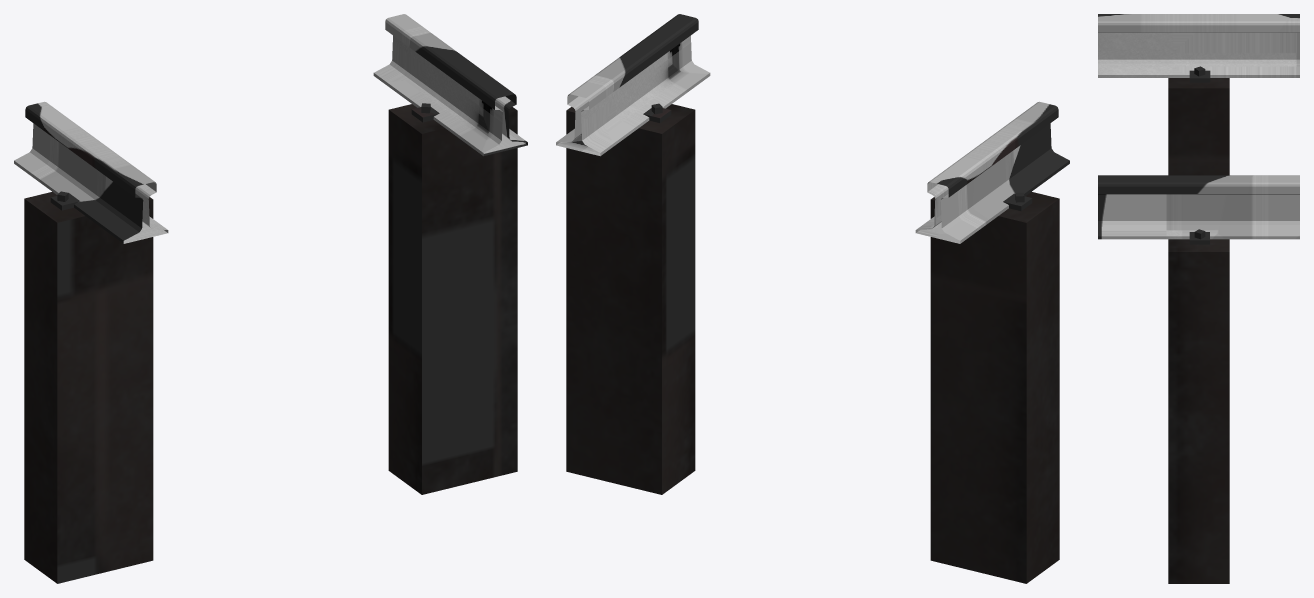
File: rail1067_siding.obj
The picture shows the model from 3 angles, left to right: view 1: azimuth 30°, elevation 25°; view 2: azimuth 150°, elevation 25°; view 3: azimuth 270°, elevation 25°; orthographic projection. The views are drawn at different scales.
Parts seen in each view (by area): view 1: obj1; view 2: obj1; view 3: obj1.
Part boxes in pixels (x1=…): obj1: x1=14, y1=14, x2=527, y2=583; obj1: x1=556, y1=14, x2=1069, y2=583; obj1: x1=1098, y1=14, x2=1299, y2=583.
Bounding box in the file's own units: 1.45 × 1.25 × 0.6.
Materials: 1 (1 with a texture image).
